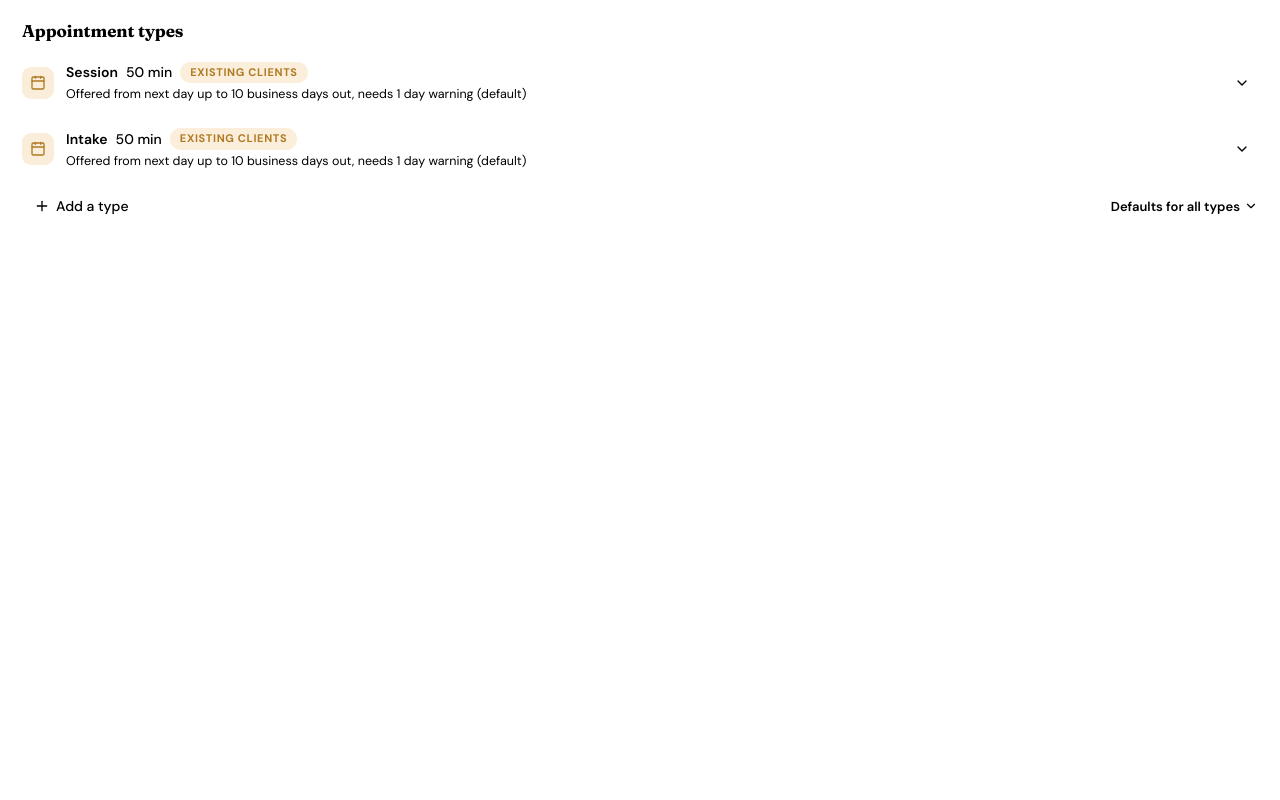
Scenario: AppointmentTypesCard — names already in use › says so when a rename collides with another type
This screenshot has width=1280, height=800.
Click the 1st button named "Expand".
click(1242, 83)  # box [1226, 67, 1258, 99]
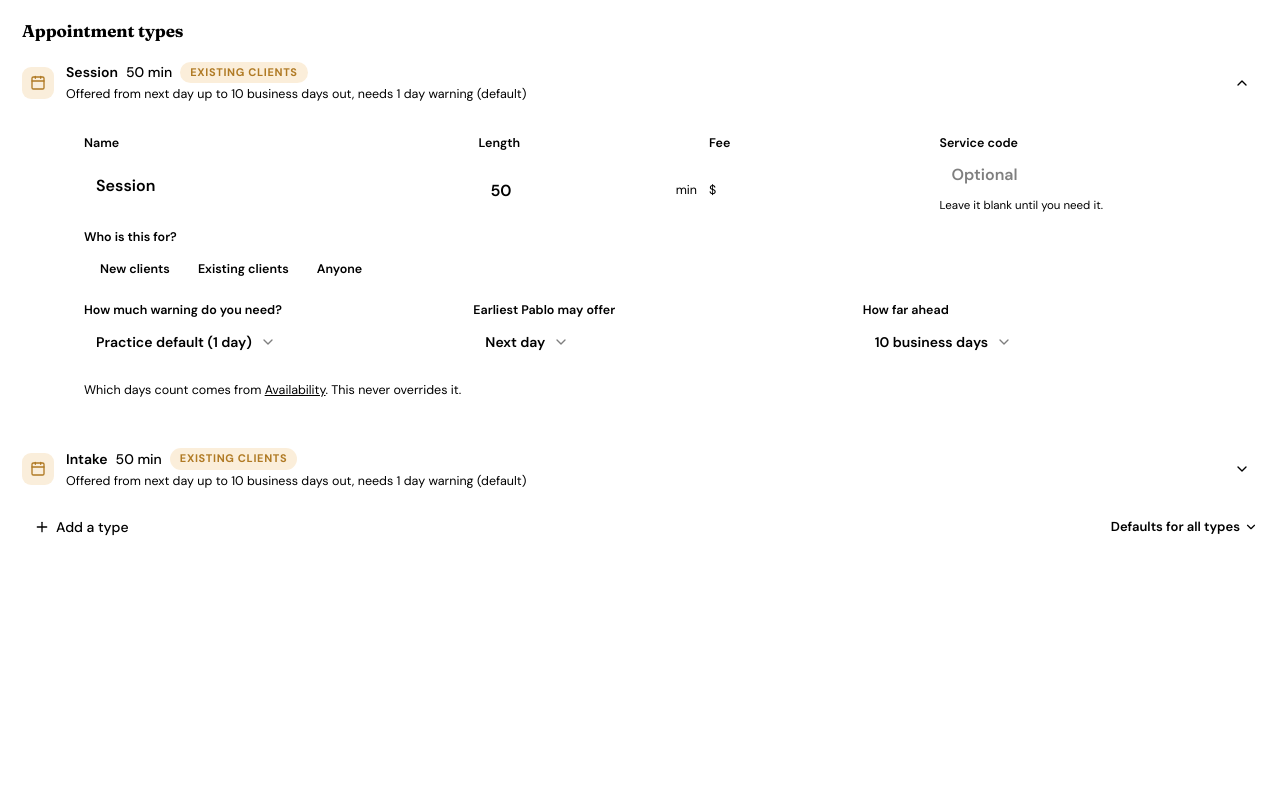
Replace the text in the field labelled "Name" with "Intake" at (275, 185), box [84, 167, 466, 203]
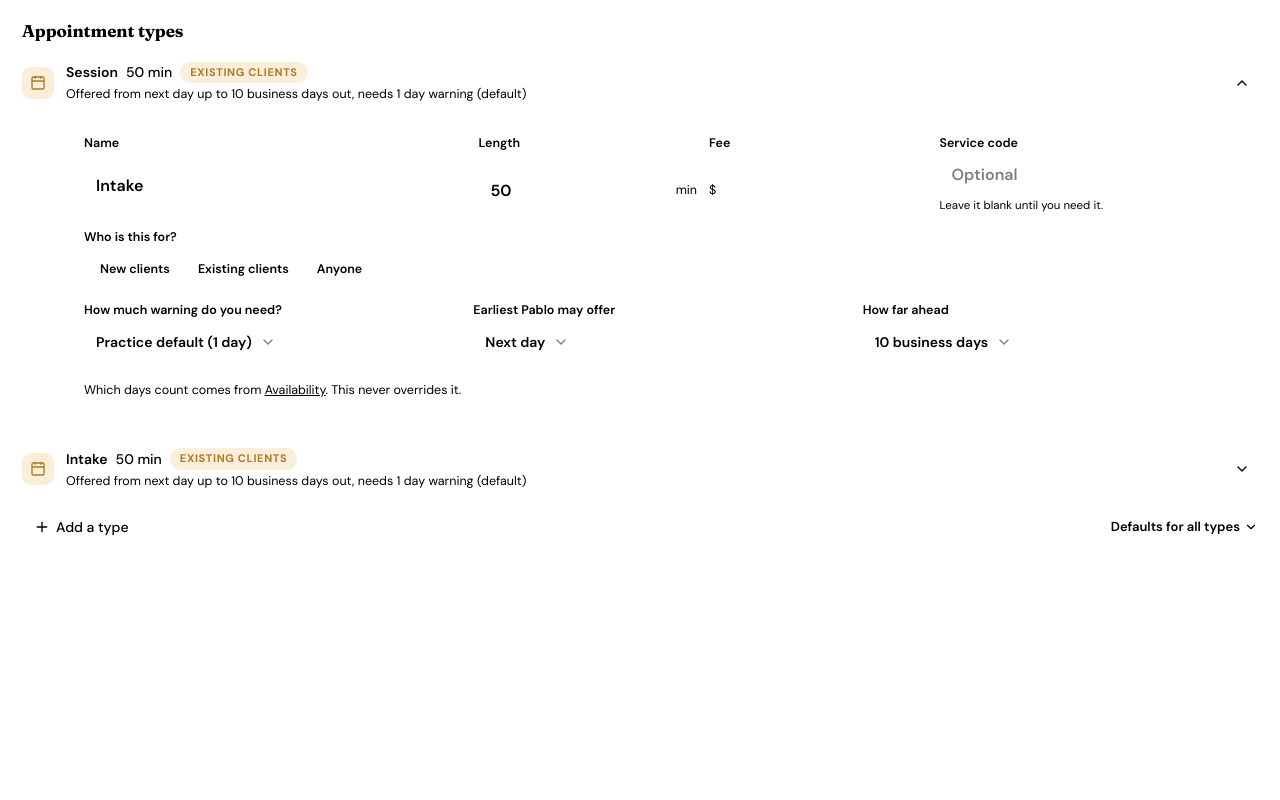
Press Tab
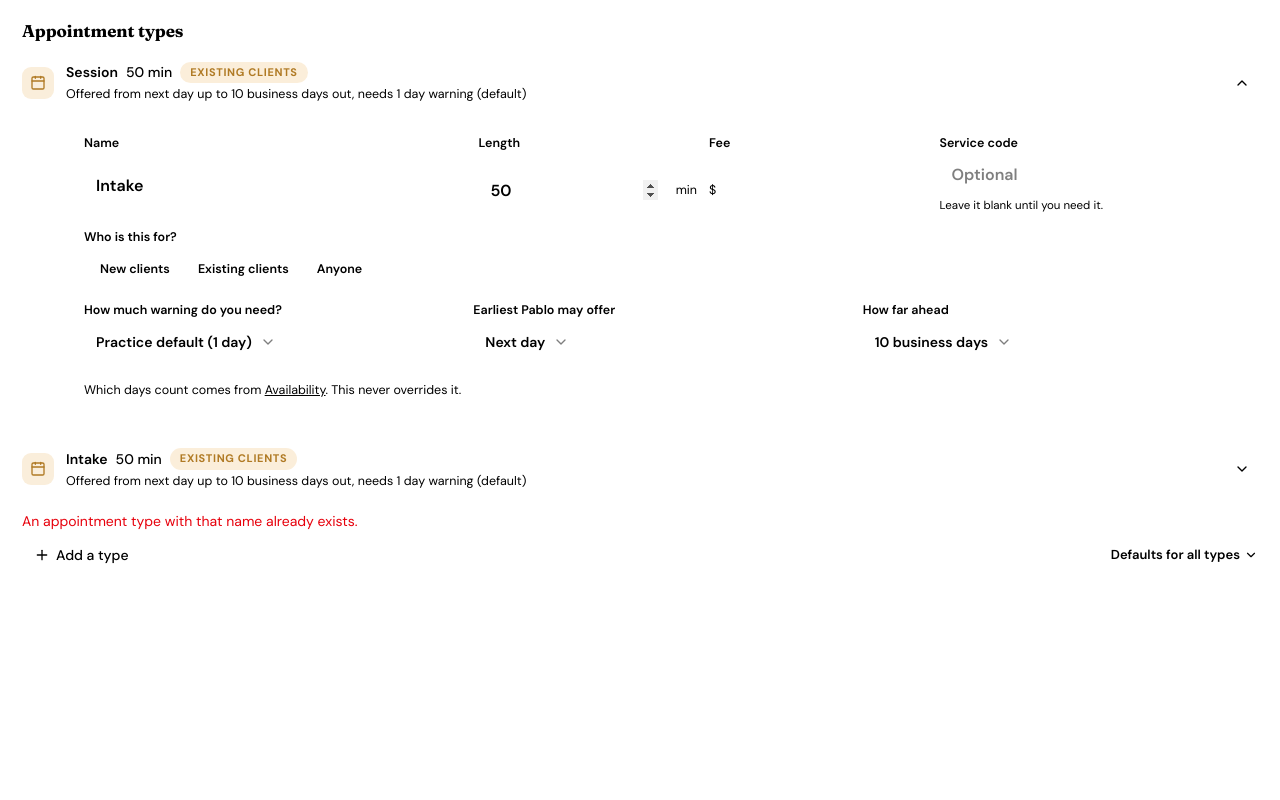
Expected: the message reads "An appointment type with that name already exists.", [22, 512, 358, 530]
